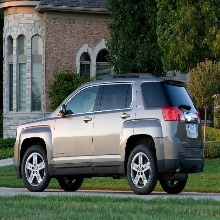no damage: (12, 74, 207, 193)
